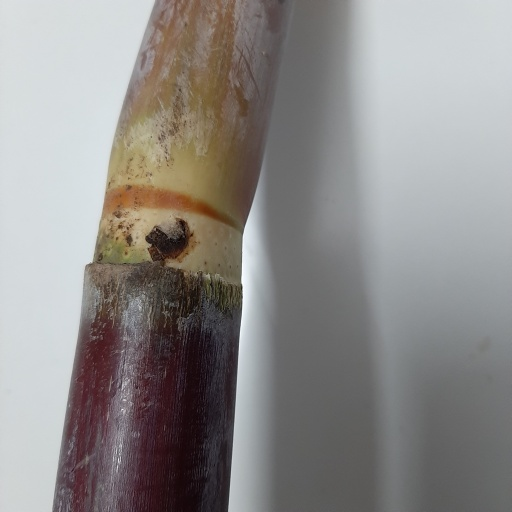Damage_Bud: (147, 215, 194, 264)
